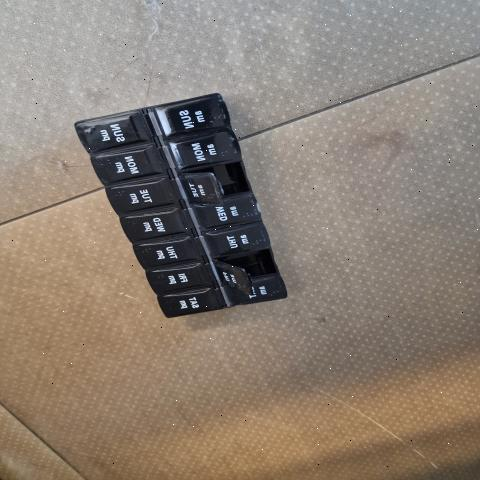Open: (181, 161, 252, 204), (213, 249, 280, 279)
